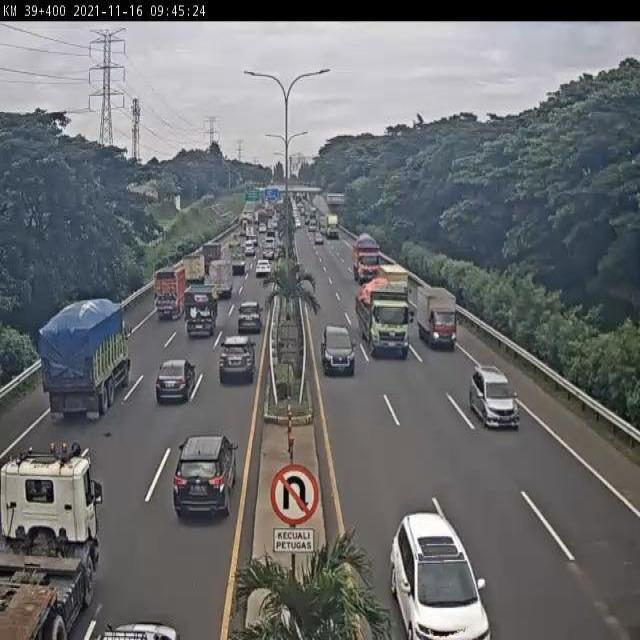ARABA: (387, 506, 493, 640), (172, 432, 236, 523), (472, 360, 518, 431), (218, 335, 259, 385), (154, 355, 195, 401), (321, 324, 357, 373), (236, 300, 265, 335)
KAMYONET: (415, 285, 457, 348), (152, 264, 187, 321), (183, 284, 217, 336)
TIR: (2, 441, 103, 640), (39, 299, 136, 417), (354, 280, 410, 356)
